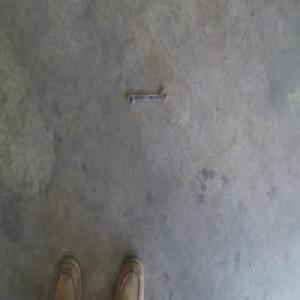Wrench: (126, 88, 168, 105)
